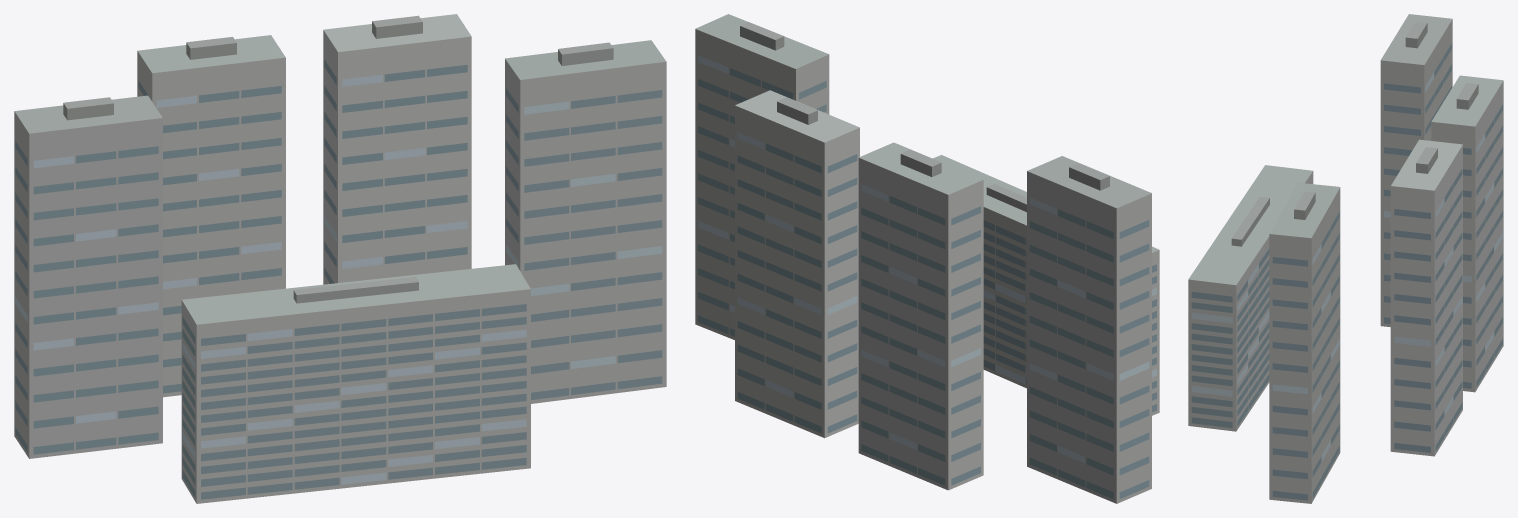
Rendered from apt-a13703011.glb.
The picture shows the model from 3 angles, left to right: view 1: azimuth 30°, elevation 25°; view 2: azimuth 150°, elevation 25°; view 3: azimuth 270°, elevation 25°; orthographic projection. The views are drawn at different scales.
Parts seen in each view (by area): view 1: apt-a13703011; view 2: apt-a13703011; view 3: apt-a13703011.
Part boxes in pixels (<box>): apt-a13703011: <box>14,14,666,503</box>; apt-a13703011: <box>695,14,1159,503</box>; apt-a13703011: <box>1188,14,1503,503</box>.
Size of the model in its own units: 122 by 70 by 72.7.
